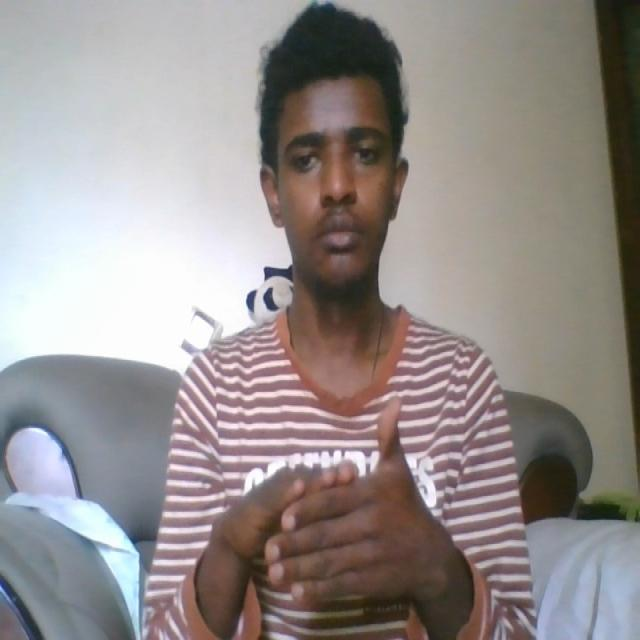tadya: (217, 457, 406, 613)
